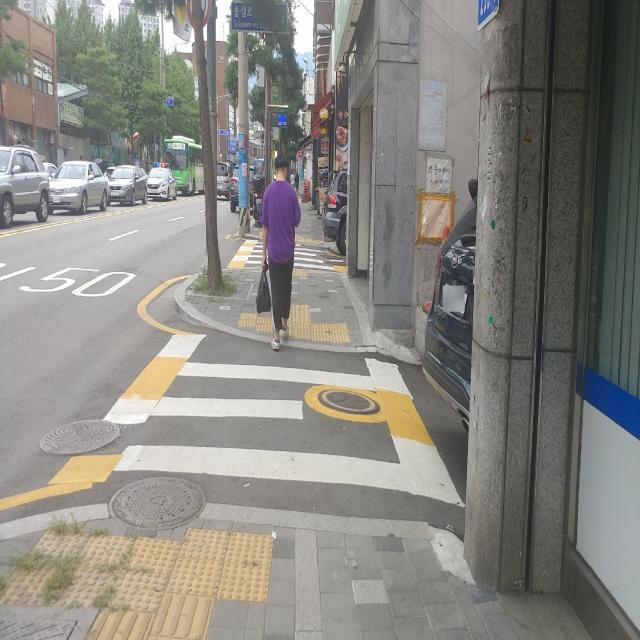횡단보도: (113, 362, 412, 492)
